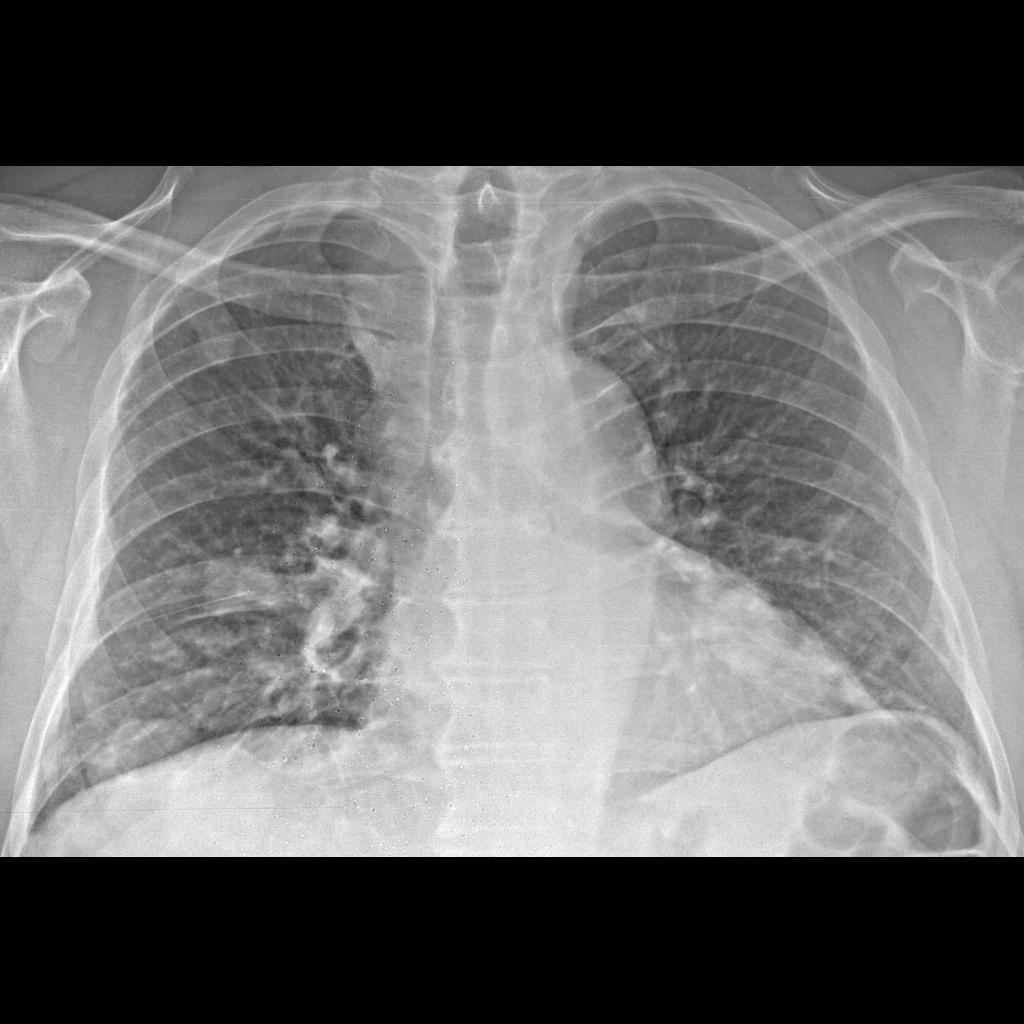Nodule: (696, 562, 804, 687), (100, 706, 195, 803), (187, 546, 283, 617)
